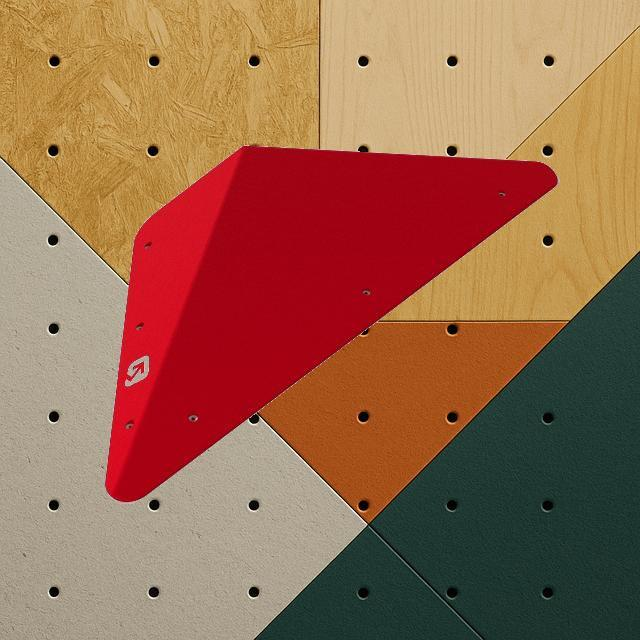Volume: (104, 143, 560, 503)
